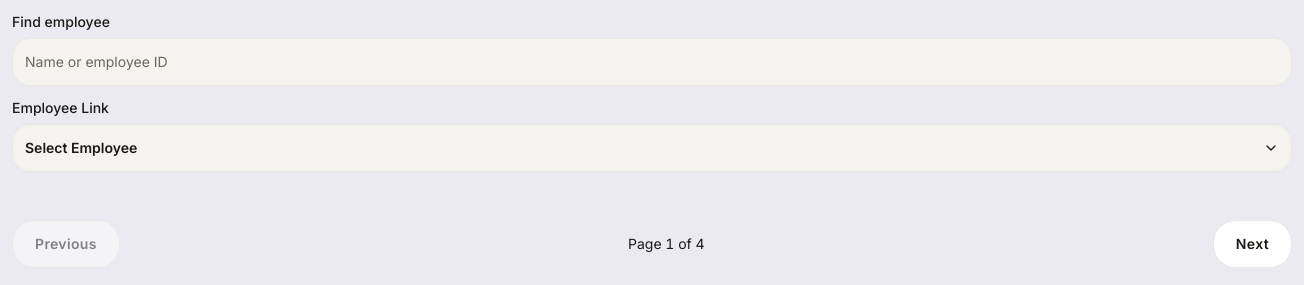
Test: Staff payment employee lookup › debounces and trims server search, resetting the page without selecting an employee
The width and height of the screenshot is (1304, 285).
Step 1. Click the button with aria-label "Next employees" → click(1252, 244), box [1213, 220, 1292, 268]
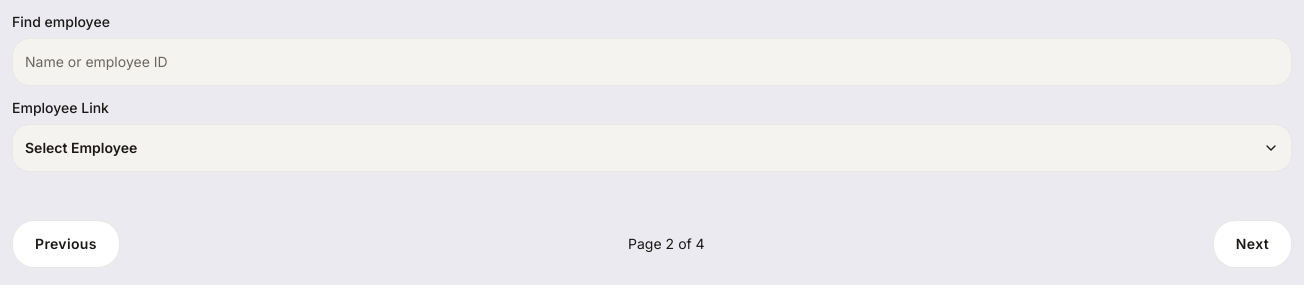
Now the text "Page 2 of 4" is shown, box [628, 234, 705, 254]
Step 2. Type "  SYN" into the search field labelled "Find employee" → (652, 62), box [12, 38, 1292, 86]
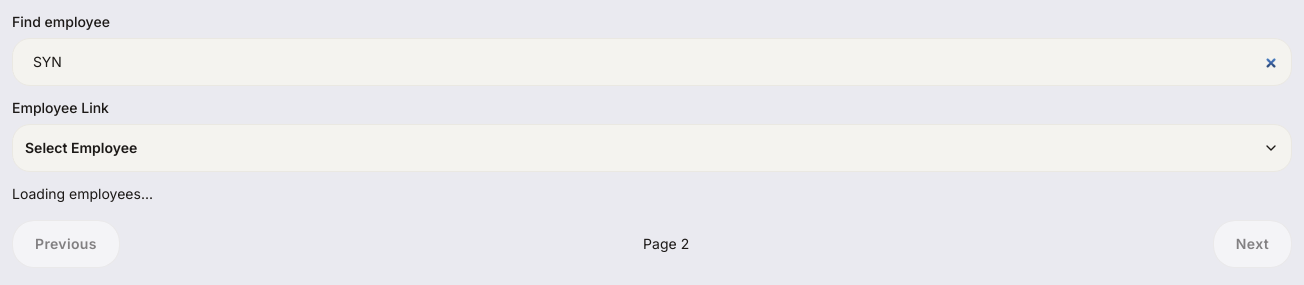
Step 3. Replace the text in the search field labelled "Find employee" with "  SYN-0151  " → (652, 62), box [12, 38, 1292, 86]
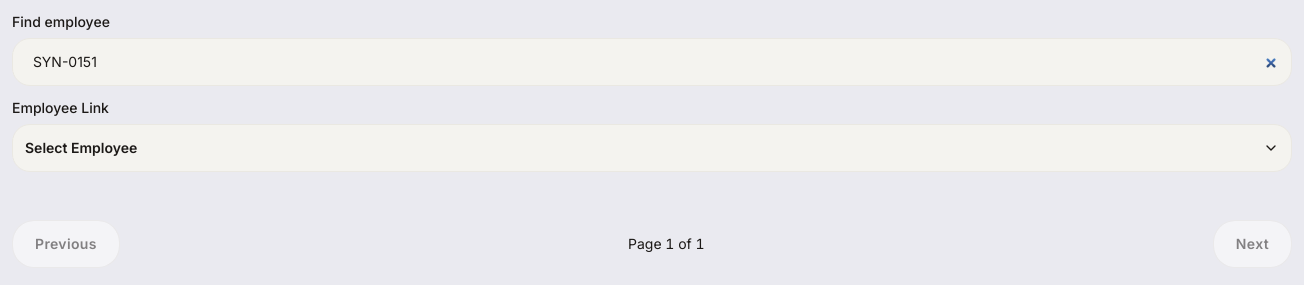
Now the text "Page 1 of 1" is shown, box [628, 234, 705, 254]
